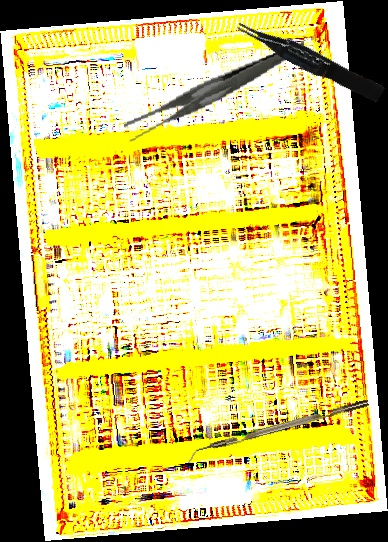Chopper: (184, 399, 372, 464)
Dressing Forceps: (115, 41, 315, 143)
Tissue Forceps: (234, 10, 386, 109)
